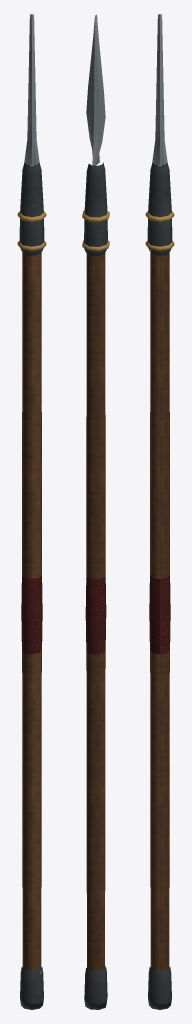
Rendered from javelin.lod2.glb.
The picture shows the model from 3 angles, left to right: view 1: azimuth 90°, elevation 25°; view 2: azimuth 150°, elevation 25°; view 3: azimuth 270°, elevation 25°; orthographic projection.
Parts seen in each view (by area): view 1: wood / oiled hardwood, darksteel / oil-blackened fittings, cord / waxed silk cord wrap, steel / forged blade steel, brass / polished brass furniture; view 2: wood / oiled hardwood, darksteel / oil-blackened fittings, steel / forged blade steel, cord / waxed silk cord wrap, brass / polished brass furniture; view 3: wood / oiled hardwood, darksteel / oil-blackened fittings, cord / waxed silk cord wrap, steel / forged blade steel, brass / polished brass furniture.
Boxes of the visible parts, x1,y1,x2,y2 form: wood / oiled hardwood: (22,252,41,970); darksteel / oil-blackened fittings: (19,162,44,1009); cord / waxed silk cord wrap: (21,575,42,654); steel / forged blade steel: (24,14,39,164); brass / polished brass furniture: (17,211,46,251); wood / oiled hardwood: (86,253,105,970); darksteel / oil-blackened fittings: (84,162,107,1009); steel / forged blade steel: (86,14,105,165); cord / waxed silk cord wrap: (85,575,106,654); brass / polished brass furniture: (82,210,109,251); wood / oiled hardwood: (150,252,169,970); darksteel / oil-blackened fittings: (147,162,172,1009); cord / waxed silk cord wrap: (149,575,170,654); steel / forged blade steel: (152,14,167,164); brass / polished brass furniture: (145,211,174,251).
Bounding box in the file's own units: 0.0412 × 1.58 × 0.0412.
6 materials, 5 textured.
